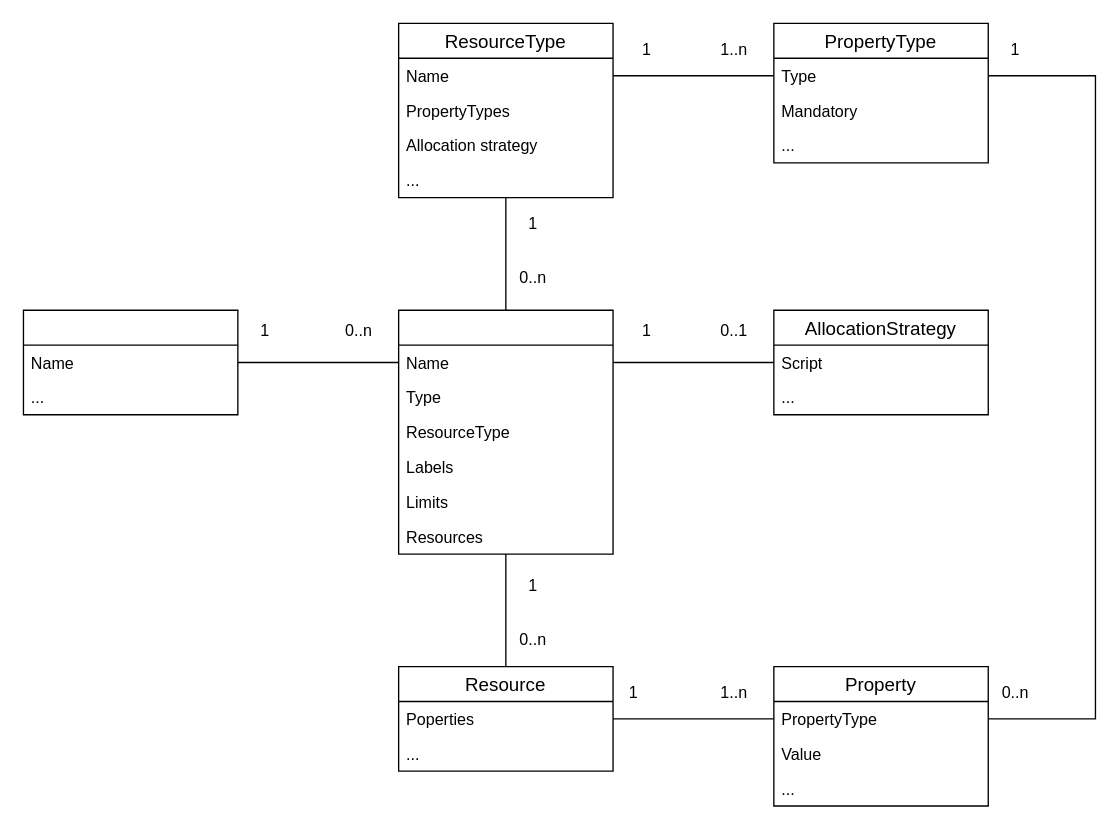
This 1120x833 diagram has some shape labels left out. The shapes that lost their labels are listed below. From the top down, each one's box as (x1, y1, x2, y2) in pixels, then its label:
(22, 309, 238, 415): Label
(397, 309, 613, 554): ResourcePool
